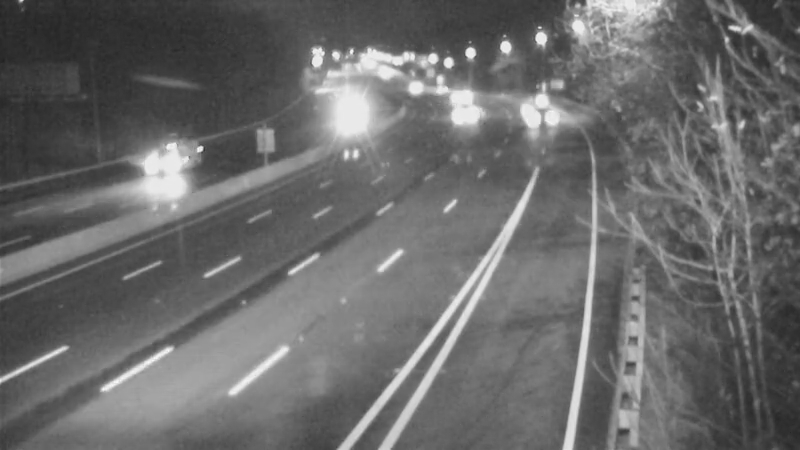vehicle: (127, 131, 207, 211), (416, 66, 466, 116), (384, 64, 434, 114), (435, 75, 485, 125), (512, 84, 562, 134), (448, 84, 498, 134), (321, 94, 371, 144)
